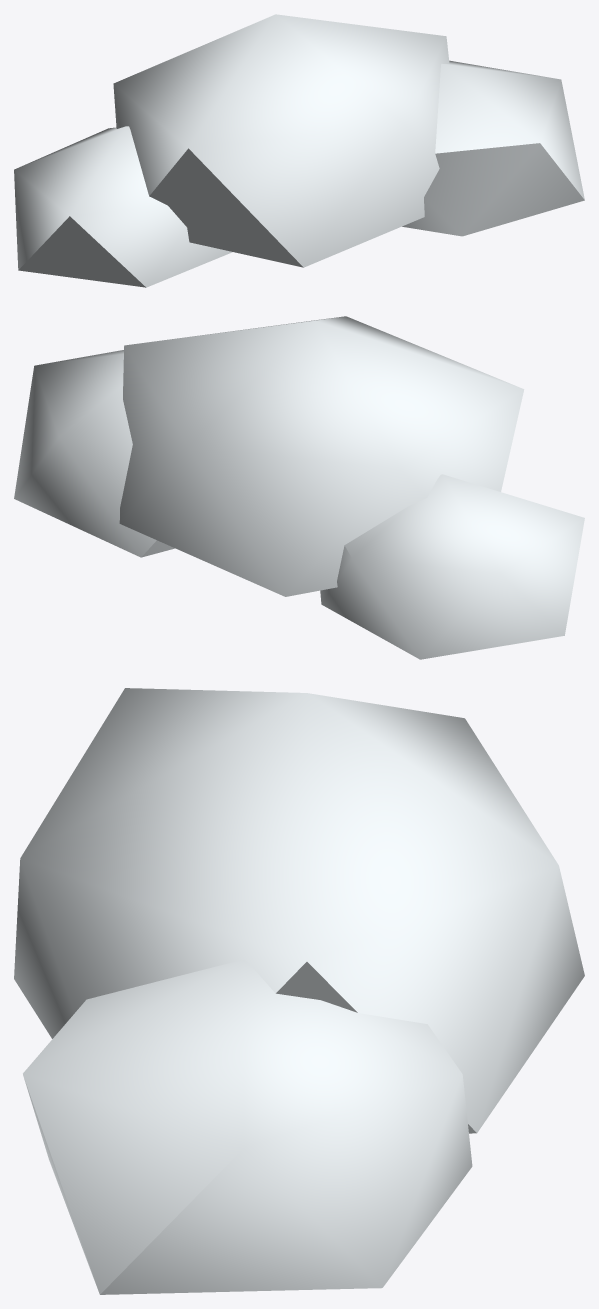
Rendered from mist_puff.glb.
3 renders of one model, top to bottom at view 1: azimuth 30°, elevation 25°; view 2: azimuth 150°, elevation 25°; view 3: azimuth 270°, elevation 25°, orthographic. The views are drawn at different scales.
Visible parts, largest first — view 1: mist_puff; view 2: mist_puff; view 3: mist_puff.
Boxes of the visible parts, x1,y1,x2,y2 form: mist_puff: [14, 14, 584, 287]; mist_puff: [14, 316, 584, 659]; mist_puff: [14, 688, 584, 1294].
Size of the model in its own units: 0.8526 by 0.3369 by 0.4538.
1 material, 1 textured.
